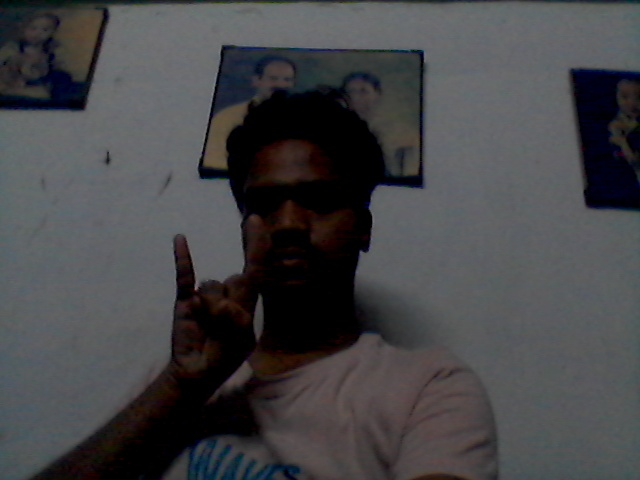I Love You: (167, 215, 271, 383)
